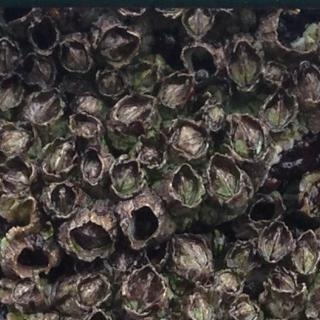Barnacle: (126, 268, 162, 313), (257, 224, 292, 268), (266, 89, 300, 129), (42, 140, 78, 177), (229, 42, 258, 86), (233, 118, 264, 158), (173, 238, 207, 274), (27, 88, 61, 124), (99, 31, 136, 63), (172, 168, 200, 209), (71, 221, 109, 251), (209, 159, 236, 201), (292, 233, 320, 272), (162, 75, 197, 105), (112, 161, 141, 195), (75, 276, 107, 306), (1, 160, 31, 191), (175, 125, 206, 154), (120, 96, 153, 122), (297, 68, 320, 105), (50, 183, 76, 214), (82, 149, 104, 185), (0, 76, 22, 112), (0, 127, 28, 154), (62, 41, 89, 69), (229, 242, 253, 273), (28, 59, 54, 86), (271, 270, 299, 295), (188, 7, 213, 35), (71, 114, 100, 137), (132, 67, 159, 91), (14, 277, 40, 301), (191, 293, 214, 320), (140, 138, 164, 163), (207, 100, 224, 133), (233, 298, 258, 320), (99, 72, 122, 95), (0, 39, 15, 72), (216, 273, 238, 295), (75, 95, 101, 112), (265, 64, 288, 83)
